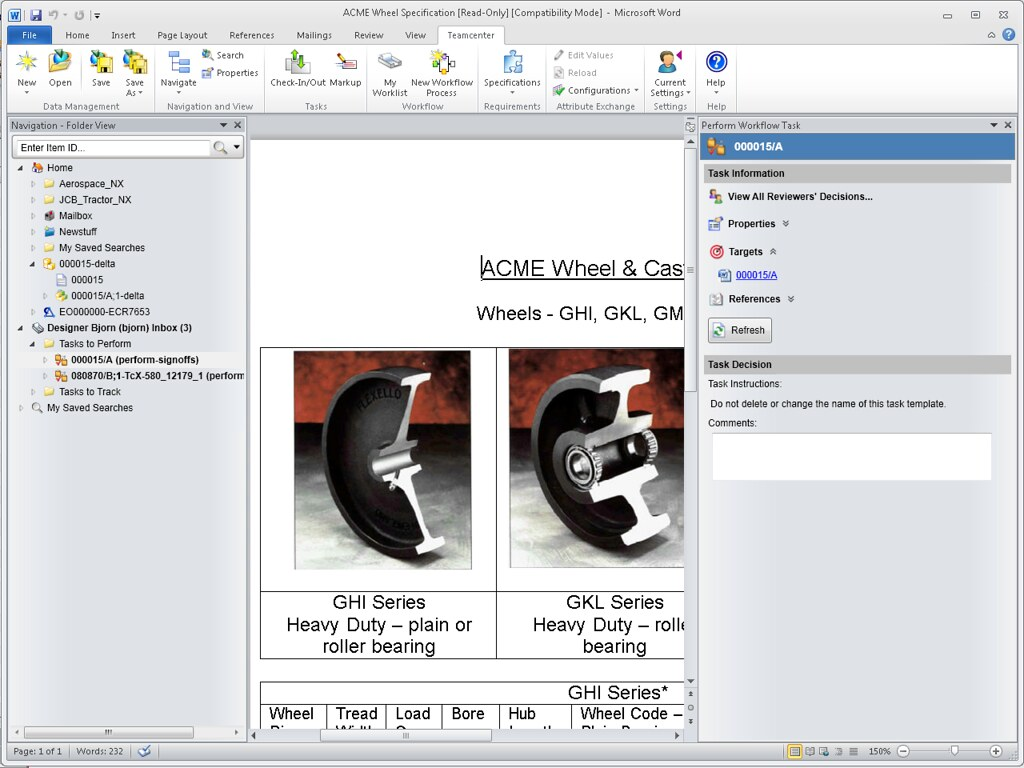button: (683, 149, 698, 392), (706, 186, 881, 205), (411, 48, 474, 98), (24, 726, 195, 741), (54, 369, 245, 382), (319, 729, 492, 743), (269, 48, 327, 88), (484, 49, 542, 88), (31, 321, 193, 334), (651, 49, 692, 98), (53, 353, 200, 366), (706, 315, 772, 343), (371, 51, 409, 98), (707, 288, 795, 307), (706, 214, 790, 233), (120, 47, 150, 99), (160, 49, 198, 88), (43, 305, 152, 318), (43, 241, 147, 254), (31, 401, 134, 414), (705, 242, 777, 260), (329, 51, 364, 88), (438, 25, 505, 44), (87, 48, 116, 89), (552, 83, 631, 98), (42, 193, 133, 206), (55, 289, 146, 302), (48, 47, 76, 89), (715, 266, 780, 284), (42, 177, 126, 190), (42, 338, 133, 350), (15, 50, 41, 88), (42, 257, 118, 270), (703, 49, 728, 87), (42, 386, 121, 398), (552, 47, 615, 62), (201, 65, 259, 80), (7, 26, 52, 45), (43, 226, 100, 239), (55, 273, 106, 287), (552, 65, 598, 80), (156, 29, 209, 42), (42, 209, 95, 222), (201, 47, 246, 62), (227, 29, 276, 42), (31, 161, 77, 174), (295, 29, 333, 42), (352, 29, 385, 41), (64, 29, 93, 42), (110, 29, 137, 42), (212, 139, 229, 156), (404, 29, 428, 41), (7, 726, 24, 741), (7, 7, 22, 23), (786, 744, 802, 759), (229, 726, 245, 741), (683, 134, 697, 149), (29, 8, 43, 22), (1001, 26, 1015, 40), (896, 744, 910, 758), (683, 121, 697, 135), (684, 700, 698, 714), (684, 714, 698, 728), (247, 729, 261, 743), (989, 744, 1002, 758), (684, 675, 698, 688), (683, 688, 698, 700), (73, 9, 86, 22), (996, 8, 1009, 21), (969, 8, 982, 21), (940, 8, 953, 21), (47, 8, 59, 21), (985, 29, 998, 41), (987, 119, 1000, 131), (803, 746, 816, 758), (816, 746, 829, 758), (846, 746, 859, 758), (831, 746, 844, 758), (670, 730, 683, 742), (27, 178, 39, 190), (27, 193, 39, 205), (27, 210, 39, 222), (27, 226, 39, 238), (27, 242, 39, 254), (26, 258, 38, 270), (40, 290, 52, 302), (28, 306, 40, 318), (15, 322, 27, 334), (26, 338, 38, 350), (39, 354, 51, 366), (39, 370, 51, 382), (27, 386, 39, 398), (15, 402, 27, 414), (949, 744, 960, 757), (1002, 119, 1014, 130), (219, 119, 230, 131), (233, 119, 244, 131), (230, 141, 242, 152), (505, 88, 519, 96), (20, 88, 33, 96), (15, 163, 25, 173), (173, 87, 184, 96), (711, 87, 721, 96), (93, 11, 102, 20), (631, 86, 641, 93), (685, 87, 691, 98), (136, 89, 145, 96), (61, 12, 70, 17)
common: (709, 398, 947, 410), (708, 378, 783, 390), (730, 139, 789, 153), (707, 417, 759, 430), (13, 745, 63, 758), (74, 745, 124, 758), (867, 746, 893, 756)
container: (249, 138, 684, 730), (699, 115, 1019, 742), (8, 116, 248, 743), (1, 45, 1024, 115), (704, 163, 1013, 352), (704, 355, 1013, 486), (1, 23, 1024, 45), (1, 1, 1022, 23), (15, 160, 155, 318), (6, 741, 1018, 762), (12, 320, 246, 399), (24, 337, 246, 384), (7, 45, 155, 113), (683, 116, 699, 730), (699, 131, 1016, 160), (683, 133, 698, 688), (367, 45, 479, 113), (155, 45, 265, 113), (265, 45, 367, 113), (547, 45, 645, 113), (703, 163, 1011, 183), (704, 355, 1012, 375), (11, 134, 244, 159), (25, 258, 148, 305), (247, 729, 684, 742), (699, 116, 1024, 133), (478, 45, 547, 113), (6, 726, 247, 743), (8, 116, 247, 133), (645, 45, 696, 113), (37, 369, 245, 383), (484, 48, 542, 97), (696, 45, 737, 113), (13, 320, 193, 335), (37, 352, 200, 367), (866, 743, 1004, 758), (159, 48, 198, 96), (26, 240, 147, 255), (26, 192, 135, 207), (28, 305, 151, 318), (14, 401, 133, 414), (26, 176, 127, 191), (896, 744, 1003, 758), (39, 289, 146, 303), (551, 83, 642, 99), (25, 337, 132, 350), (25, 256, 117, 271), (784, 743, 865, 760), (15, 49, 42, 97), (702, 48, 729, 96), (26, 385, 121, 398), (26, 225, 100, 239), (14, 160, 79, 175), (26, 209, 95, 223), (684, 688, 699, 729), (47, 8, 70, 21)
header: (341, 5, 682, 20), (700, 118, 804, 132), (11, 119, 116, 130), (167, 101, 255, 112), (707, 168, 787, 180), (555, 101, 636, 112), (707, 358, 773, 371), (43, 102, 121, 112), (483, 101, 542, 112), (401, 101, 445, 112), (652, 101, 688, 112), (705, 100, 728, 112), (304, 101, 329, 112)
image: (293, 349, 474, 572), (509, 347, 684, 570), (705, 136, 727, 157), (136, 744, 153, 759)
text-input: (261, 593, 497, 658), (712, 433, 992, 480), (498, 592, 684, 656), (261, 682, 684, 705), (478, 250, 683, 282), (474, 299, 684, 325), (17, 139, 212, 156), (573, 706, 684, 730), (499, 705, 573, 729), (262, 705, 326, 728), (326, 706, 386, 730), (441, 705, 500, 729), (388, 705, 441, 728)
